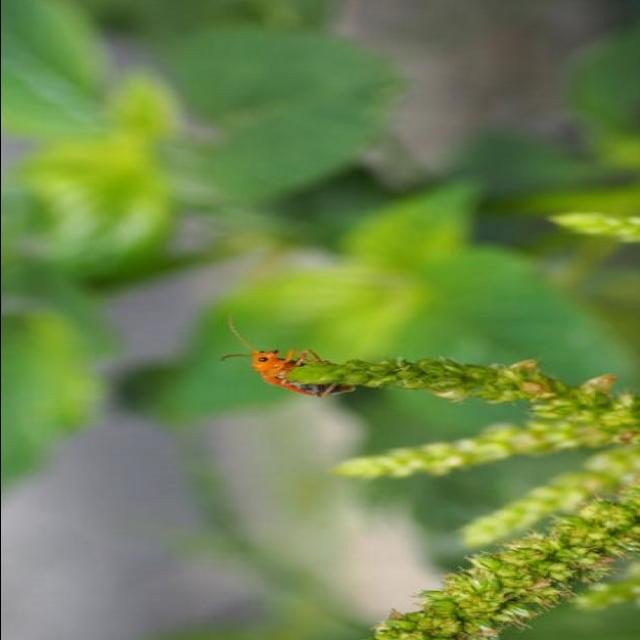Pumpkin Beetle: (217, 312, 358, 398)
